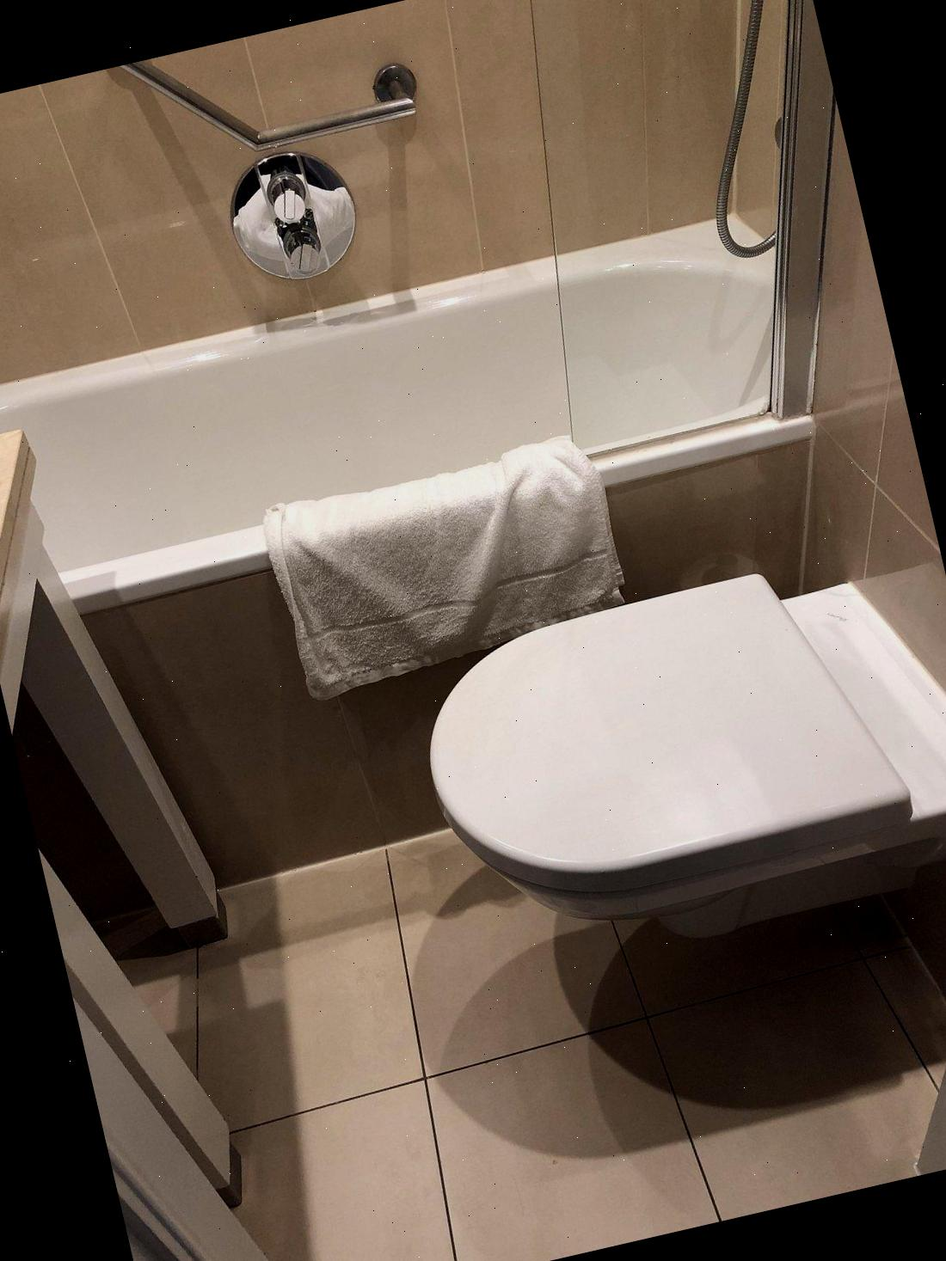clean_bathtub: (0, 202, 826, 602)
clean_floor: (226, 831, 938, 1261)
folded_towel: (258, 415, 651, 710)
